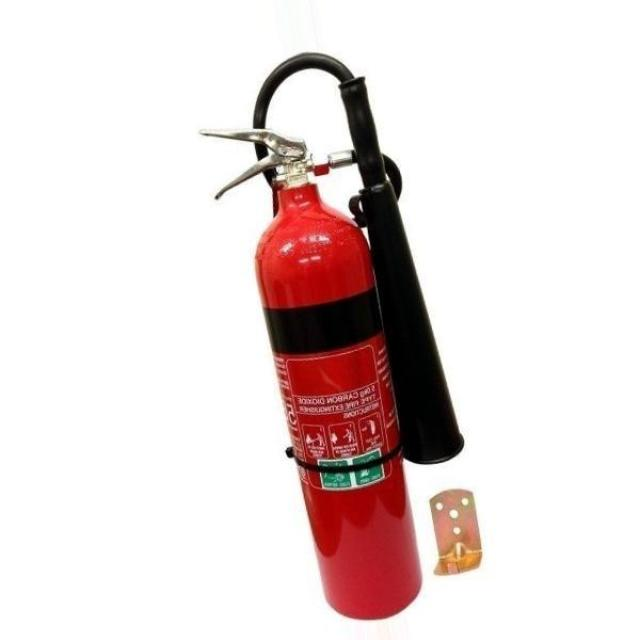fire_extinguisher: (193, 49, 464, 618)
